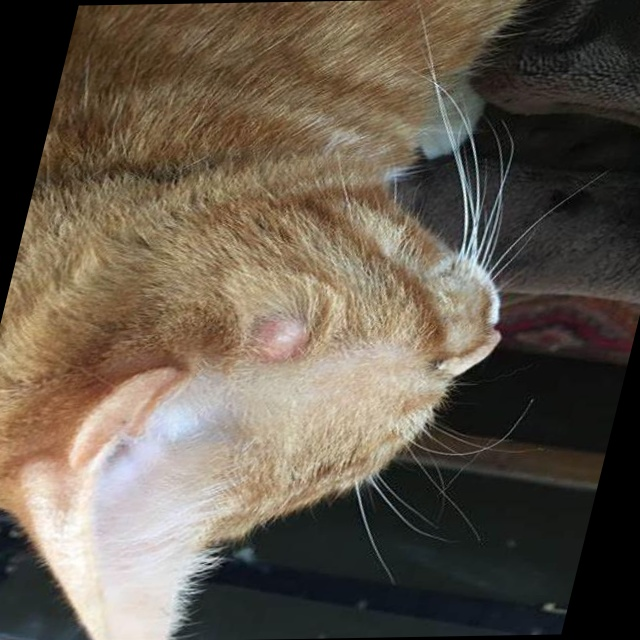lump_and_bump: (239, 306, 316, 368)
